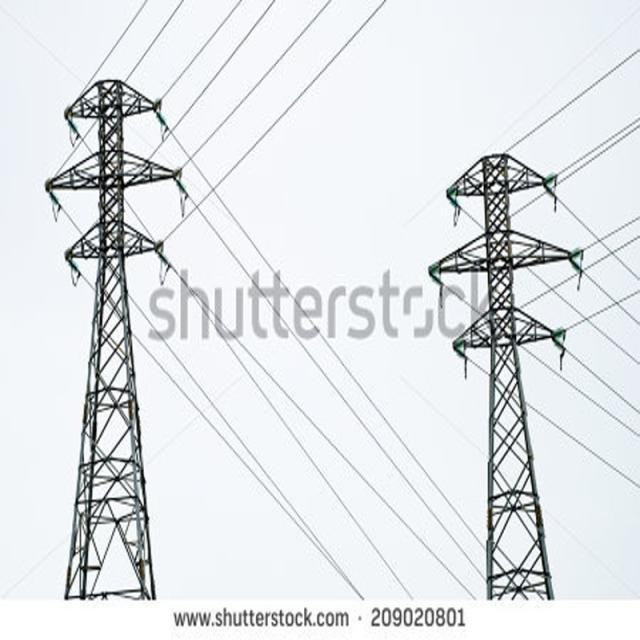non-critical vegetation: (37, 79, 193, 604), (430, 140, 578, 600)
